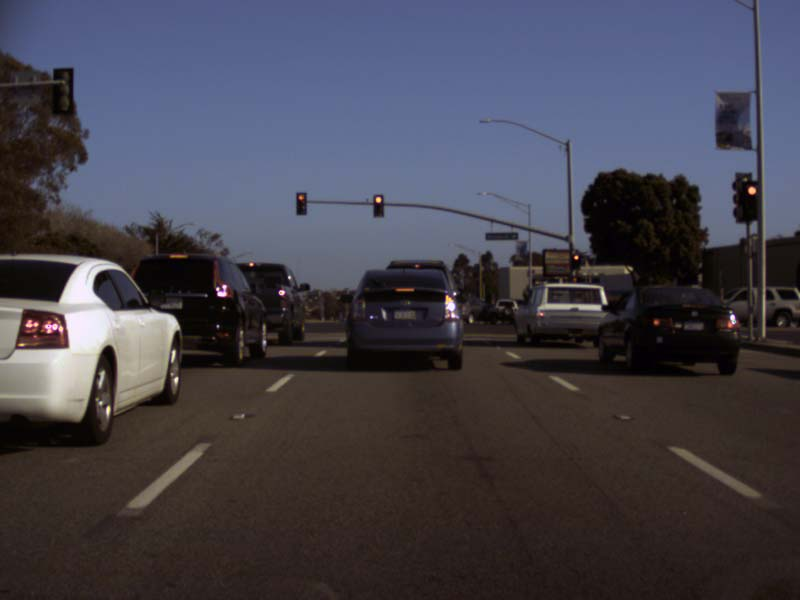Red: (741, 182, 760, 219), (296, 192, 307, 214), (373, 194, 383, 216), (571, 254, 579, 268)
